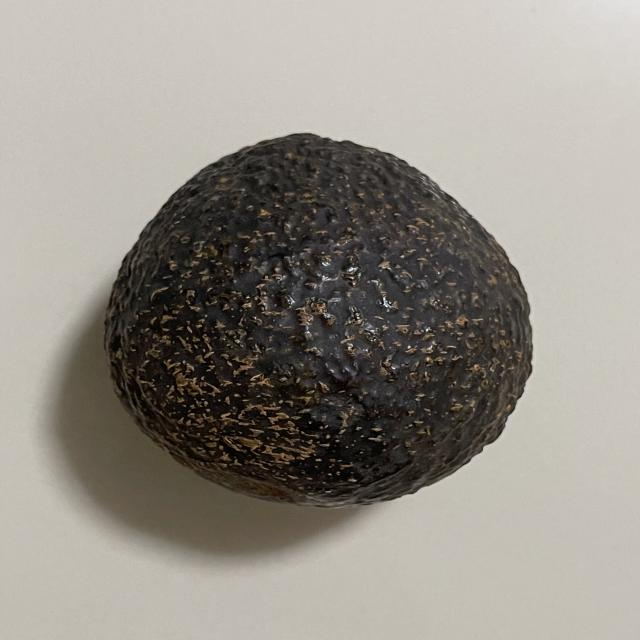Level3: (93, 124, 543, 516)
